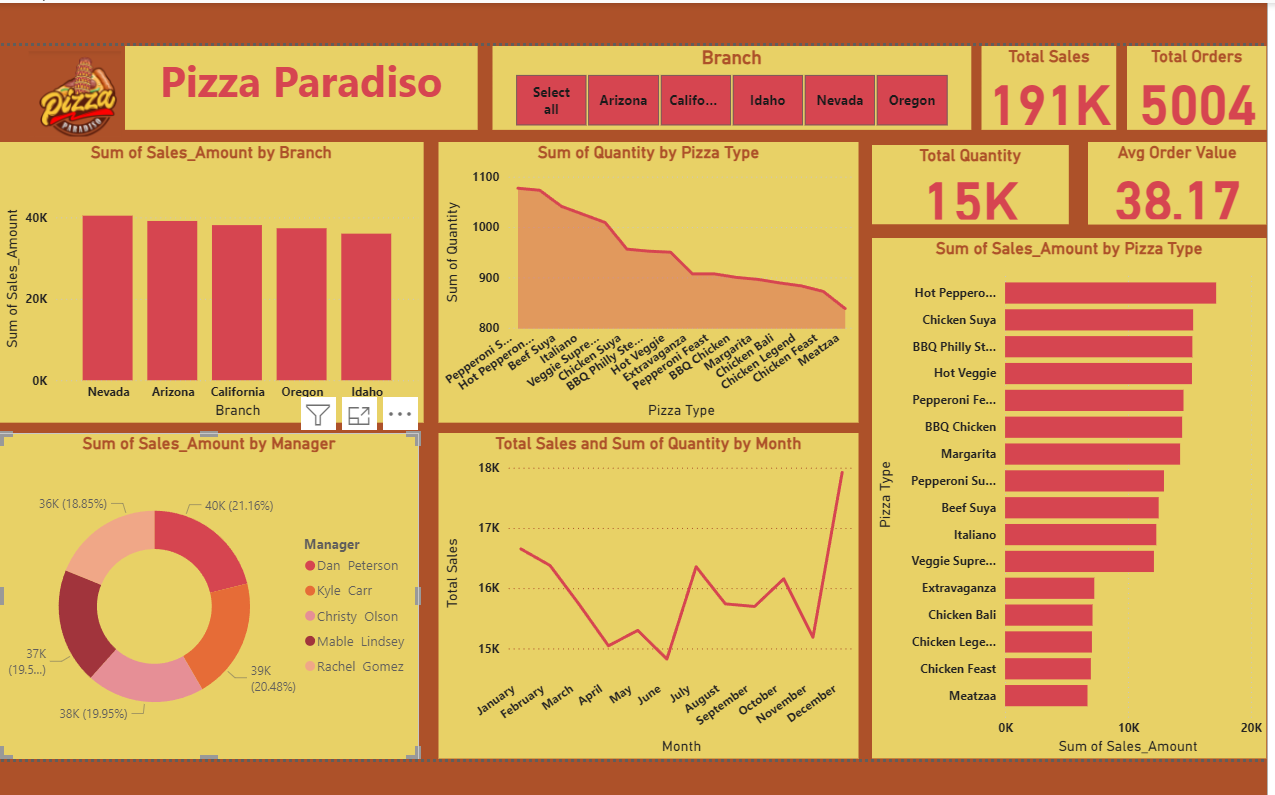

Layout of this report page (visuals, bound fields, positions):
{"tool":"powerbi","page":{"name":"Page 1","canvas":[1280,720],"ordinal":0},"visuals":[{"type":"textbox","box":[127.2,0,355.8,84.8],"z":0},{"type":"image","box":[0,0,153.1,96.4],"z":1000},{"type":"clusteredColumnChart","fields":{"Category":["Sheet1.Branch"],"Y":["Sum(Sheet1.Sales_Amount)"]},"box":[0,96.9,428.5,283.2],"z":2000},{"type":"stackedAreaChart","fields":{"Category":["Sheet1.Pizza Type"],"Y":["Sum(Sheet1.Quantity)"]},"box":[443.7,96.9,424,283.2],"z":3000},{"type":"donutChart","fields":{"Category":["Sheet1.Manager"],"Y":["Sum(Sheet1.Sales_Amount)"]},"box":[0,390.7,424,330.1],"z":4000},{"type":"lineChart","fields":{"Category":["Sheet1.Date.Variation.Date Hierarchy.Month"],"Y":["Sheet1.Total Sales"]},"box":[443.7,390.7,424,328.6],"z":5000},{"type":"clusteredBarChart","fields":{"Category":["Sheet1.Pizza Type"],"Y":["Sum(Sheet1.Sales_Amount)"]},"box":[881.3,193.8,398.2,525.4],"z":6000},{"type":"slicer","title":"Branch","fields":{"Values":["Sheet1.Branch"]},"box":[498.2,0,483,84.8],"z":7000},{"type":"card","title":"Total Orders","fields":{"Values":["Sheet1.Total Orders"]},"box":[1138.7,0,140.8,84.8],"z":8000},{"type":"card","title":"Total Quantity","fields":{"Values":["Sheet1.Total Quantity"]},"box":[881.3,99.9,198.4,80.3],"z":8001},{"type":"card","title":"Total Sales","fields":{"Values":["Sheet1.Total Sales"]},"box":[991.8,0,136.3,84.8],"z":8002},{"type":"card","title":"Avg Order Value","fields":{"Values":["Sheet1.Average Order Value"]},"box":[1099.3,96.9,180.2,83.3],"z":8003}]}

Visuals, with their boxes in screenshot pixels (x1, y1, x2, y2):
textbox: (left=128, top=43, right=478, bottom=126)
image: (left=3, top=43, right=154, bottom=138)
clusteredColumnChart - Sheet1.Branch x Sum(Sheet1.Sales_Amount): (left=3, top=138, right=424, bottom=417)
stackedAreaChart - Sheet1.Pizza Type x Sum(Sheet1.Quantity): (left=439, top=138, right=856, bottom=417)
donutChart - Sheet1.Manager x Sum(Sheet1.Sales_Amount): (left=3, top=427, right=420, bottom=751)
lineChart - Sheet1.Date.Variation.Date Hierarchy.Month x Sheet1.Total Sales: (left=439, top=427, right=856, bottom=750)
clusteredBarChart - Sheet1.Pizza Type x Sum(Sheet1.Sales_Amount): (left=869, top=234, right=1260, bottom=750)
"Branch" slicer: (left=493, top=43, right=967, bottom=126)
"Total Orders" card: (left=1122, top=43, right=1260, bottom=126)
"Total Quantity" card: (left=869, top=141, right=1064, bottom=220)
"Total Sales" card: (left=978, top=43, right=1111, bottom=126)
"Avg Order Value" card: (left=1083, top=138, right=1260, bottom=220)
